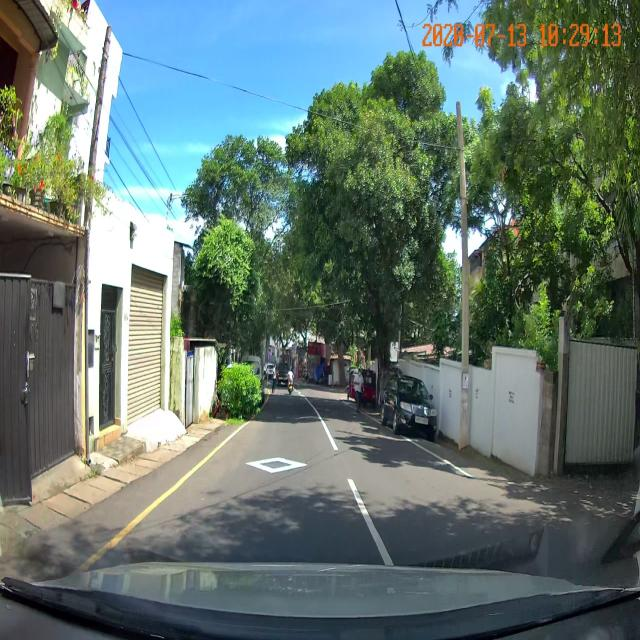Romb: (242, 455, 310, 475)
